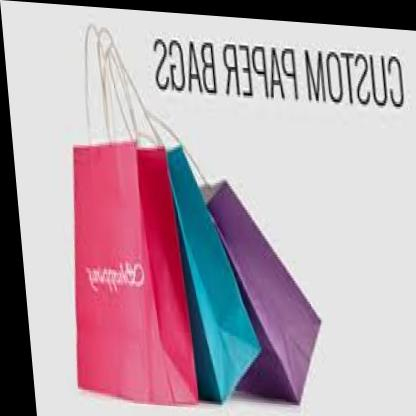Paper: (22, 34, 200, 408), (192, 136, 342, 404), (157, 100, 248, 396)
